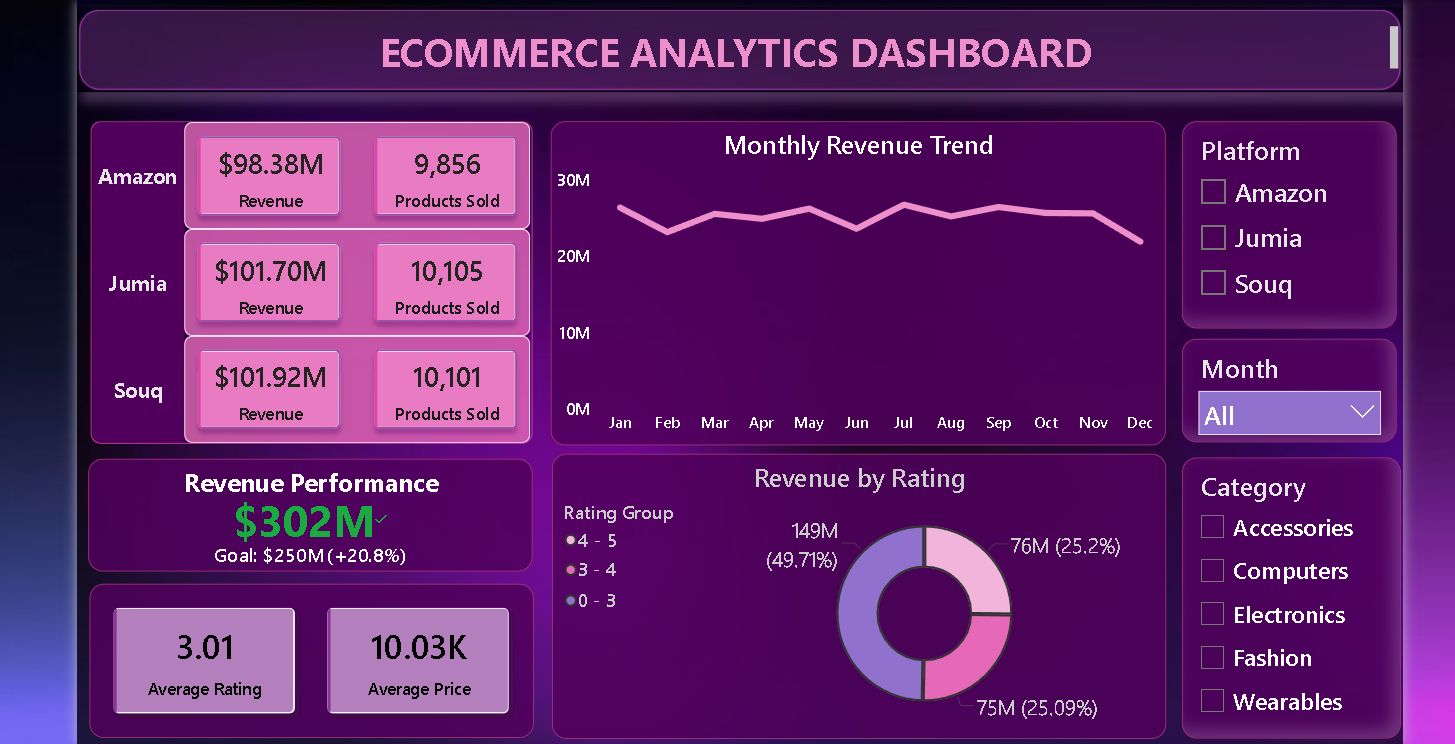

What the dashboard file says about the page in this screenshot:
{"tool":"powerbi","page":{"name":"Page 1","canvas":[1280,720],"ordinal":0},"visuals":[{"type":"shape","box":[0,7.3,1280,81.9],"z":0},{"type":"textbox","box":[0,20.8,1280.3,55],"z":1000},{"type":"cardVisual","fields":{"Data":["Key Measures.Total_Revenue","Key Measures.Total_product"],"Rows":["cleaned_ecommerce.platform"]},"box":[8.8,117.5,436.2,312.5],"z":2000},{"type":"kpi","title":"Revenue Performance","fields":{"Indicator":["Key Measures.Total_Revenue"],"TrendLine":["cleaned_ecommerce.year"],"Goal":["Key Measures.Target"]},"box":[11.2,442.5,428.8,108.8],"z":3000},{"type":"lineChart","title":"Monthly Revenue Trend","fields":{"Category":["cleaned_ecommerce.Month_Name"],"Y":["Sum(cleaned_ecommerce.total_amount)"]},"box":[457.5,117.5,593.8,312.5],"z":4000},{"type":"donutChart","title":"Revenue by Rating","fields":{"Category":["cleaned_ecommerce.rating_group"],"Y":["Sum(cleaned_ecommerce.total_quantity_sold)"]},"box":[458.8,437.5,592.5,275],"z":5000},{"type":"slicer","fields":{"Values":["cleaned_ecommerce.platform"]},"box":[1066.2,117.5,207.5,200],"z":6000},{"type":"slicer","fields":{"Values":["cleaned_ecommerce.Month_Name"]},"box":[1066.2,327.5,207.5,100],"z":7000},{"type":"cardVisual","fields":{"Data":["Avg(cleaned_ecommerce.rating)","Avg(cleaned_ecommerce.price)"]},"box":[12.5,563.8,428.8,148.8],"z":8000},{"type":"slicer","fields":{"Values":["cleaned_ecommerce.category"]},"box":[1066.2,441.2,211.2,271.2],"z":9000}]}

Visuals, with their boxes on the page's 1280x720 design canvas (x1, y1, x2, y2). These are canvas units, not pixel positions in the 1455x744 screenshot, which may show the page scaled, cropped or inside an application window:
shape: <region>0, 7, 1280, 89</region>
textbox: <region>0, 21, 1280, 76</region>
cardVisual - Key Measures.Total_Revenue x Key Measures.Total_product: <region>9, 118, 445, 430</region>
"Revenue Performance" kpi: <region>11, 442, 440, 551</region>
"Monthly Revenue Trend" lineChart: <region>458, 118, 1051, 430</region>
"Revenue by Rating" donutChart: <region>459, 438, 1051, 712</region>
slicer - cleaned_ecommerce.platform: <region>1066, 118, 1274, 318</region>
slicer - cleaned_ecommerce.Month_Name: <region>1066, 328, 1274, 428</region>
cardVisual - Avg(cleaned_ecommerce.rating) x Avg(cleaned_ecommerce.price): <region>12, 564, 441, 713</region>
slicer - cleaned_ecommerce.category: <region>1066, 441, 1277, 712</region>
